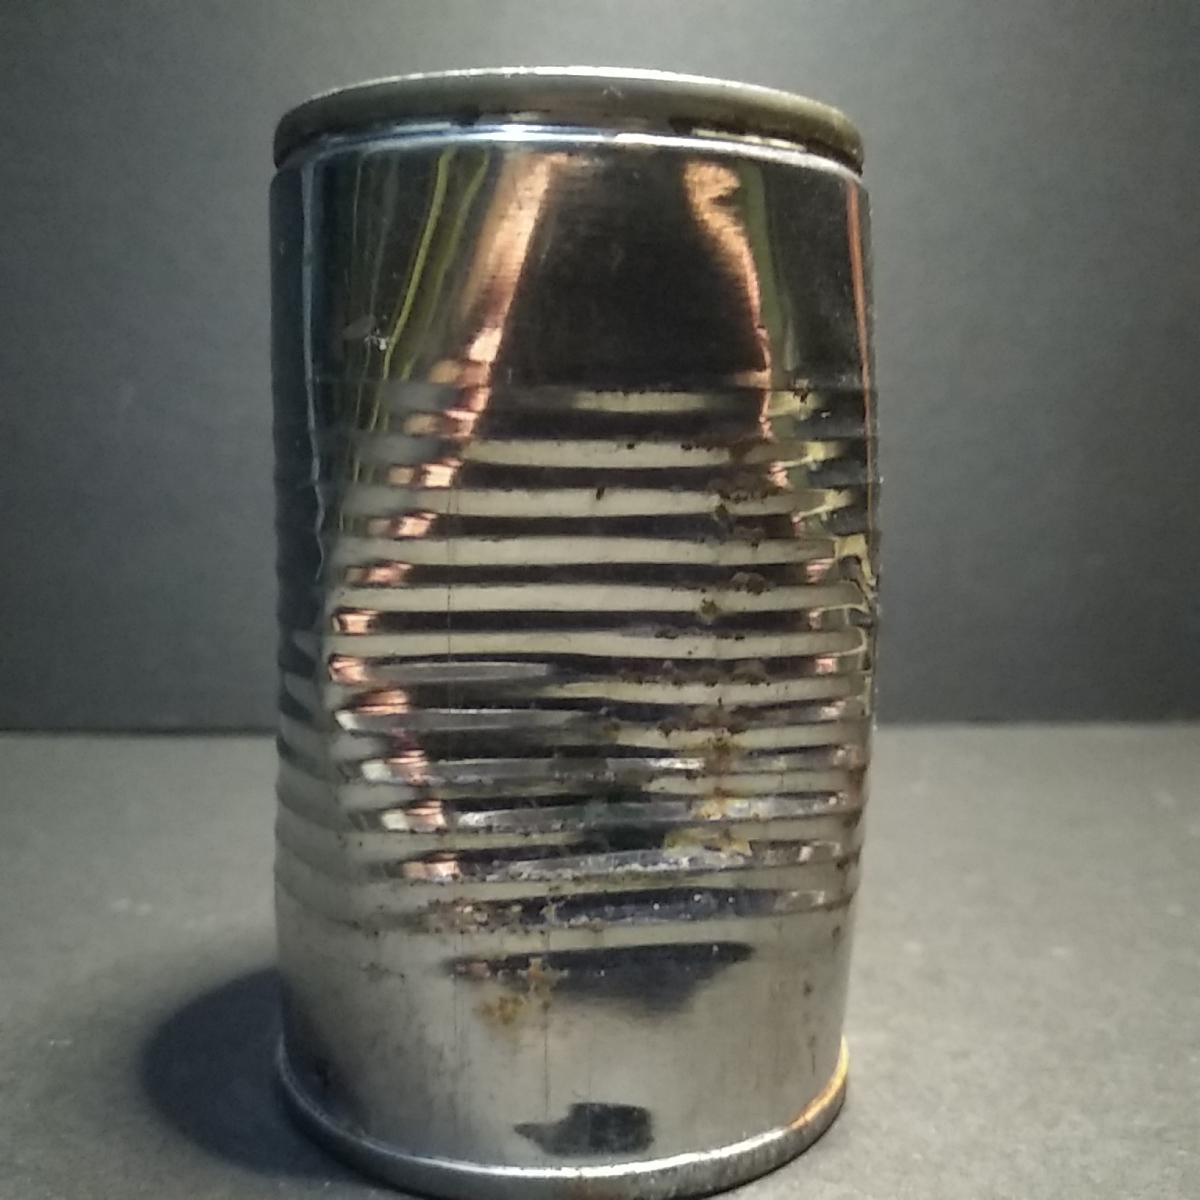Dented: (248, 46, 892, 1200)
